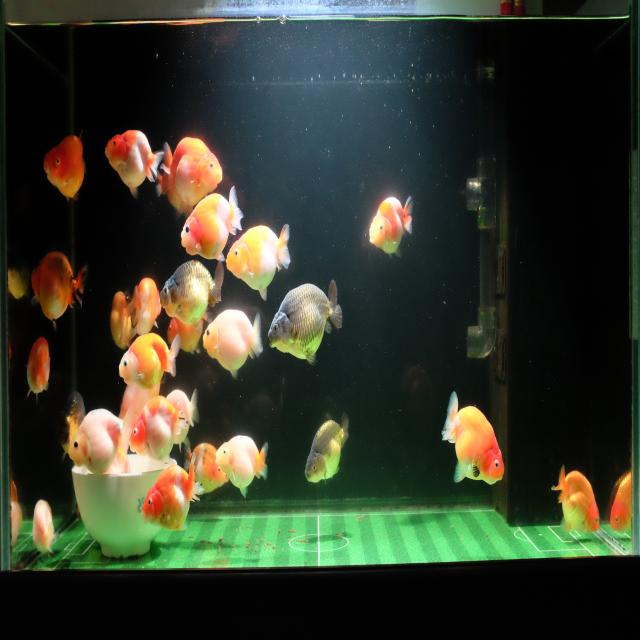Goldfish: (266, 275, 344, 367), (439, 388, 506, 491), (139, 451, 206, 538), (224, 218, 292, 303), (178, 182, 244, 264), (67, 402, 137, 476), (156, 257, 225, 329), (102, 124, 165, 202), (160, 134, 225, 208), (30, 246, 89, 326), (126, 394, 190, 464), (202, 308, 263, 381), (551, 463, 602, 544), (303, 408, 350, 488), (215, 431, 270, 499), (118, 332, 181, 391), (42, 127, 86, 206), (367, 192, 414, 261), (180, 440, 230, 498), (164, 385, 202, 446), (128, 272, 162, 339), (165, 308, 212, 356), (24, 334, 52, 402), (107, 282, 133, 352), (608, 468, 632, 539), (30, 496, 56, 560)
